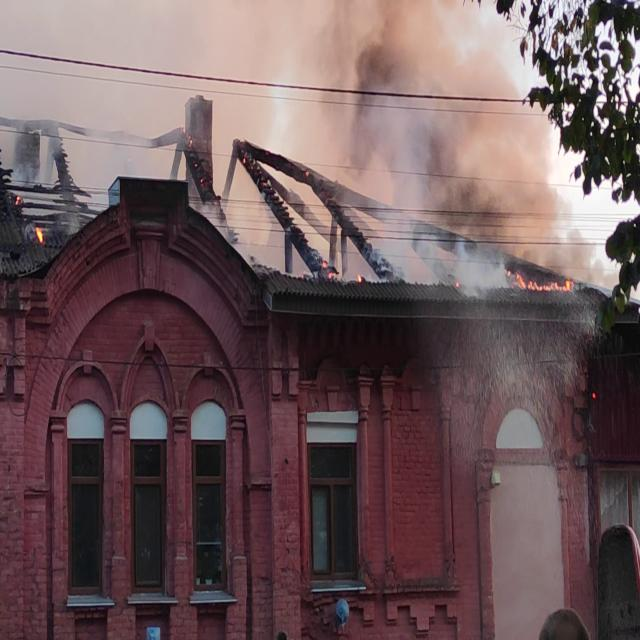fire: (506, 260, 580, 300)
smoke: (360, 7, 488, 288)
